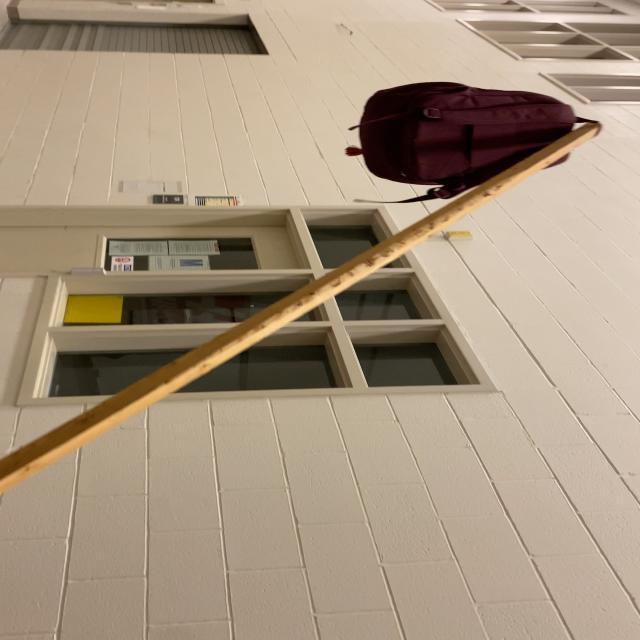Backpacks: (354, 79, 578, 186)
